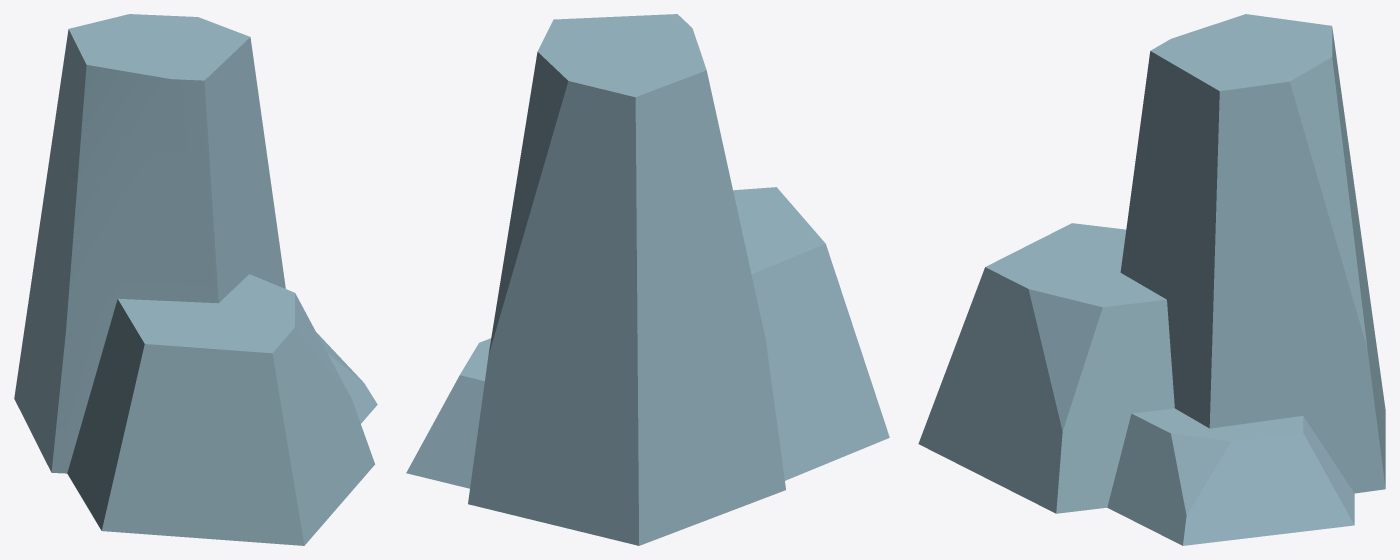
File: rockSmall.dae
The picture shows the model from 3 angles, left to right: view 1: azimuth 30°, elevation 25°; view 2: azimuth 150°, elevation 25°; view 3: azimuth 270°, elevation 25°; orthographic projection. The views are drawn at different scales.
Visible parts, largest first — view 1: rockSmall; view 2: rockSmall; view 3: rockSmall.
Boxes of the visible parts, box(x1,y1,x2,y2) form: rockSmall: box(14, 14, 377, 545); rockSmall: box(406, 14, 889, 545); rockSmall: box(918, 14, 1385, 545).
Bounding box in the file's own units: 0.9419 × 1.02 × 1.08.
